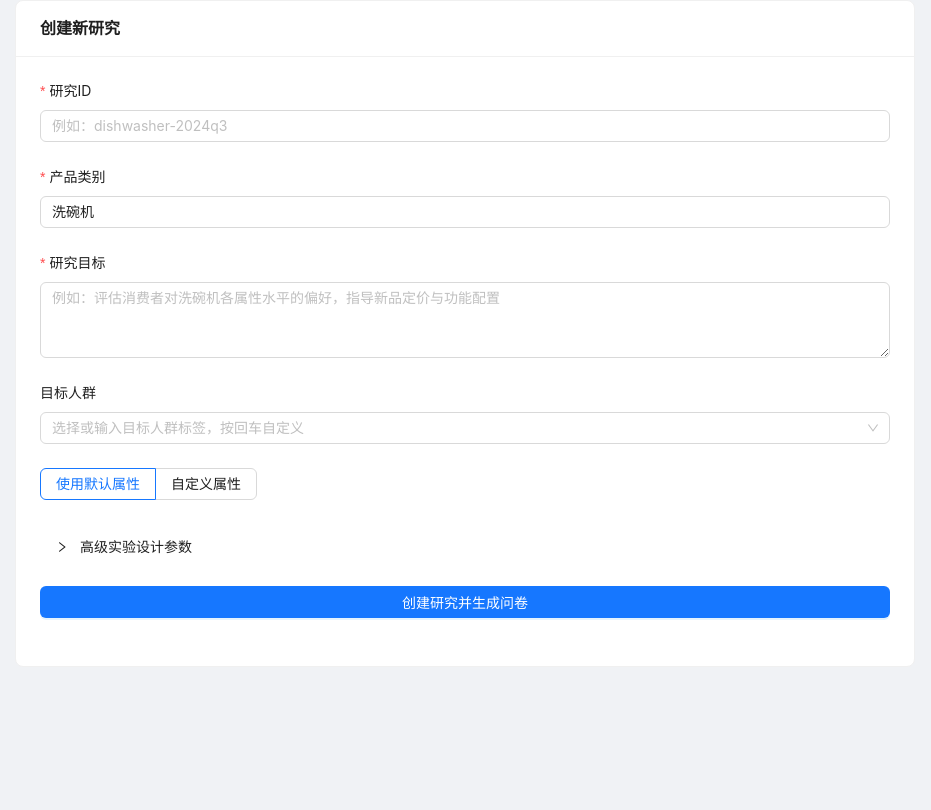
Test case: StudyCreate › toggles custom attributes
The width and height of the screenshot is (931, 810).
Click the button "自定义属性" at (206, 484), box [171,475,241,492]
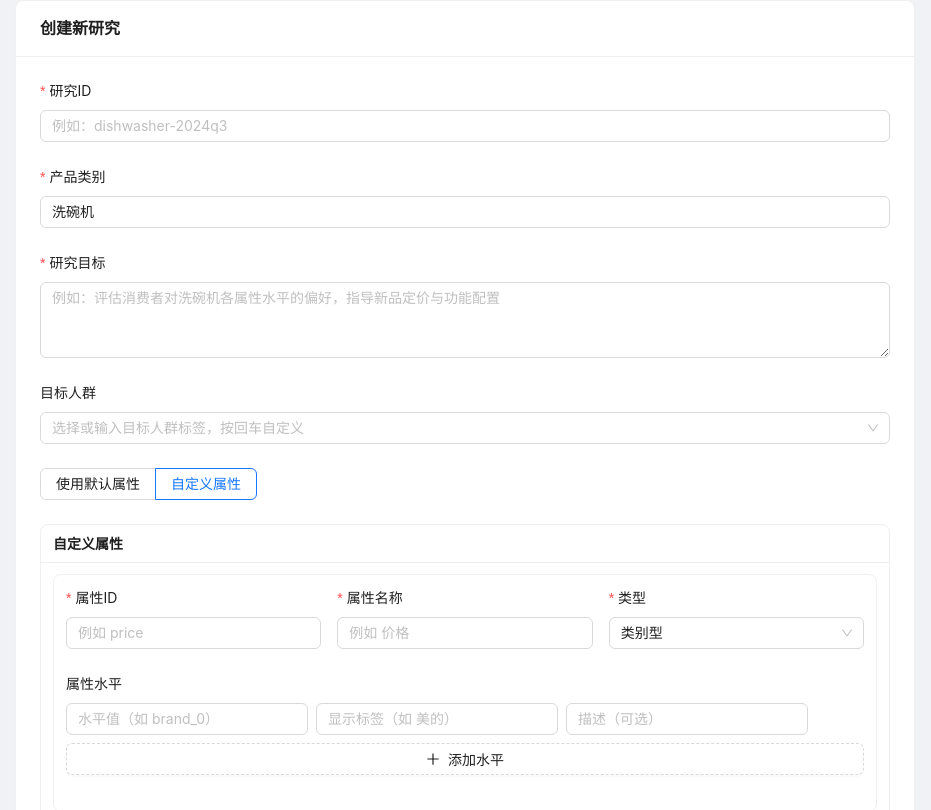
Expected: the field with placeholder "例如 price" is shown, [66,617,321,649]
